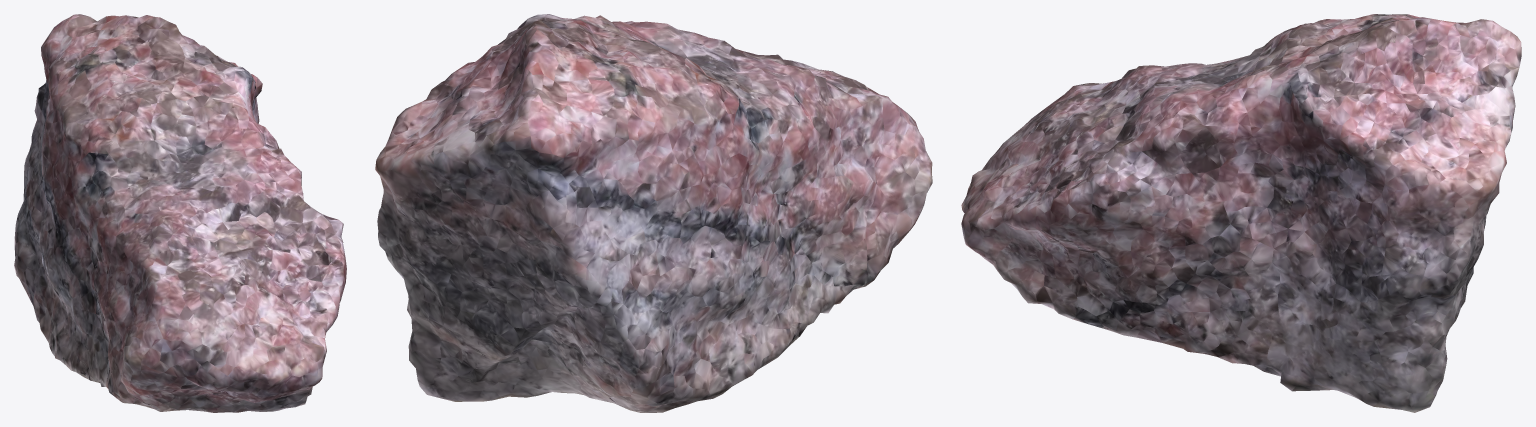
The model's file is migmatite.glb.
The picture shows the model from 3 angles, left to right: view 1: azimuth 30°, elevation 25°; view 2: azimuth 150°, elevation 25°; view 3: azimuth 270°, elevation 25°; orthographic projection. The views are drawn at different scales.
Parts seen in each view (by area): view 1: Object_4; view 2: Object_4; view 3: Object_4.
Part boxes in pixels (bbox=[...]): Object_4: bbox=[14, 14, 346, 412]; Object_4: bbox=[375, 14, 932, 412]; Object_4: bbox=[961, 14, 1521, 412].
Size of the model in its own units: 0.0779 by 0.0836 by 0.12.
1 material, 1 textured.
